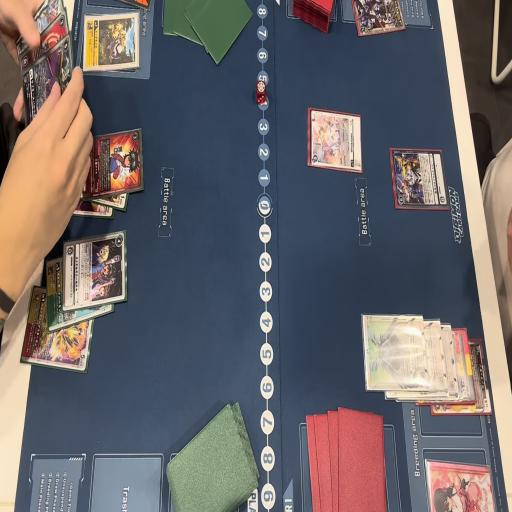card: (17, 287, 98, 373), (60, 225, 130, 316), (21, 36, 75, 140), (361, 312, 425, 394), (430, 338, 493, 416), (16, 7, 74, 85), (81, 9, 146, 77), (88, 127, 146, 199), (304, 109, 364, 174), (392, 149, 449, 208), (16, 0, 66, 60), (354, 0, 406, 42), (423, 318, 449, 397), (452, 328, 478, 406), (46, 254, 70, 334), (438, 317, 456, 402), (68, 196, 114, 218), (88, 188, 128, 212)
